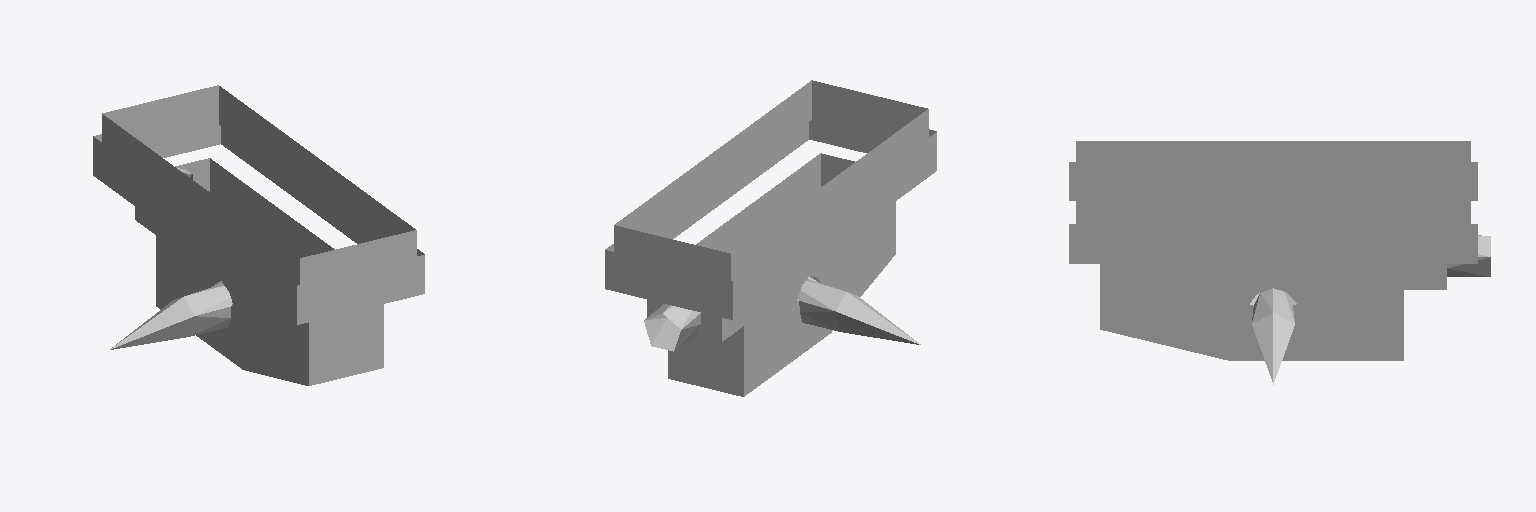
File: bridge.obj
3 renders of one model, left to right at view 1: azimuth 30°, elevation 25°; view 2: azimuth 150°, elevation 25°; view 3: azimuth 270°, elevation 25°, orthographic.
Visible parts, largest first — view 1: default; view 2: default; view 3: default.
Part boxes in pixels (bbox=[...]): default: bbox=[93, 85, 424, 385]; default: bbox=[605, 80, 936, 396]; default: bbox=[1069, 141, 1490, 384].
Size of the model in its own units: 256 by 141 by 310.